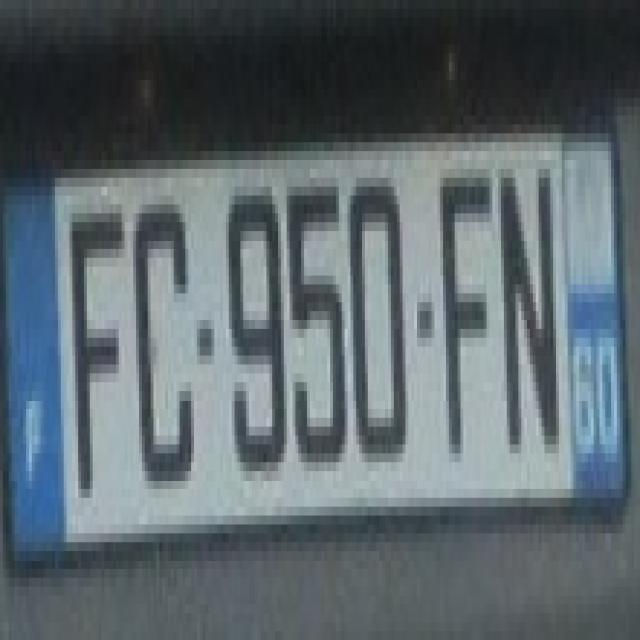EU: (2, 121, 623, 568)
France: (2, 184, 66, 552)
